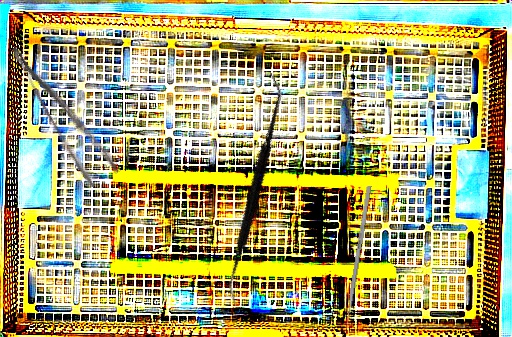Dressing Forceps: (8, 32, 122, 190)
Pusher: (343, 185, 372, 334)
Spatula Surgical: (163, 72, 343, 307)
